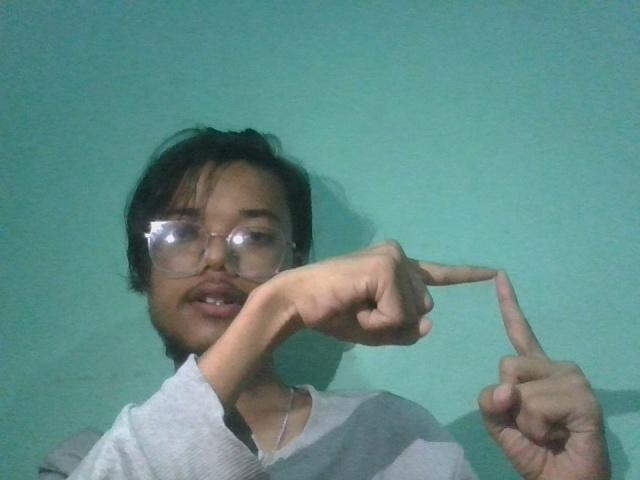When: (280, 210, 622, 478)
